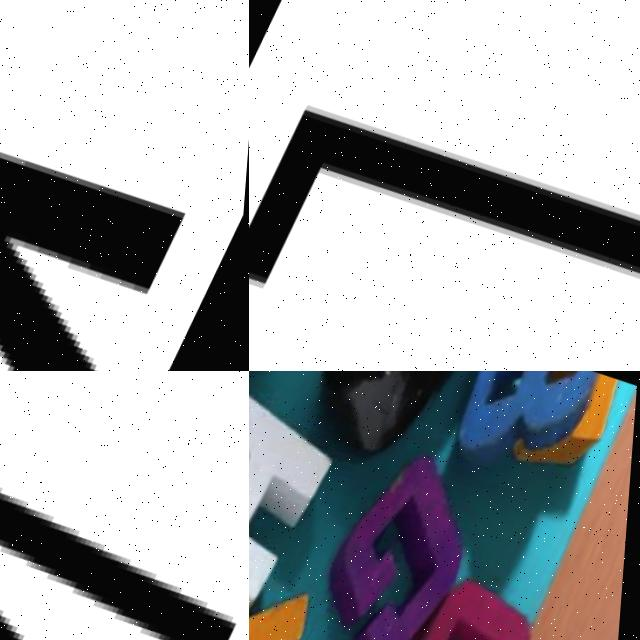B: (431, 371, 606, 492)
G: (288, 434, 507, 640)
H: (249, 376, 354, 640)
L: (249, 57, 640, 371)
M: (249, 371, 312, 511)
O: (368, 565, 560, 640)
V: (0, 371, 249, 640)
X: (0, 0, 249, 371)
